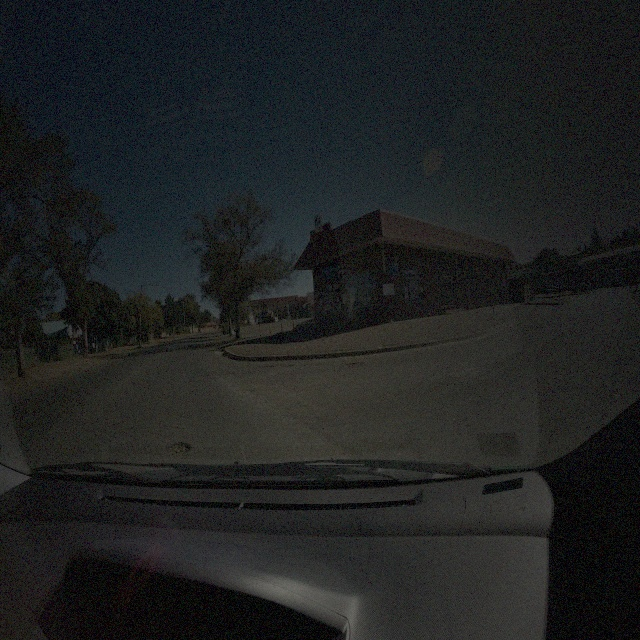pothole: (166, 440, 192, 455), (342, 361, 364, 367), (227, 371, 235, 377), (286, 362, 294, 368)
